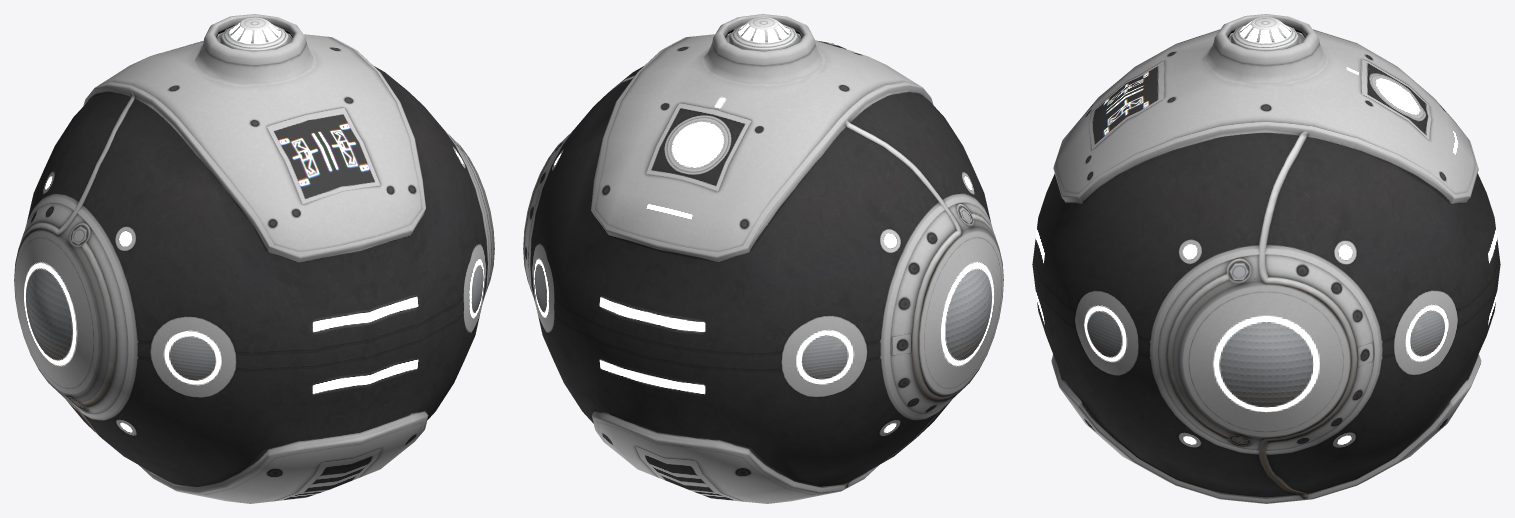
File: SciFiGrenade01_1.FBX
3 renders of one model, left to right at view 1: azimuth 30°, elevation 25°; view 2: azimuth 150°, elevation 25°; view 3: azimuth 270°, elevation 25°, orthographic.
Parts seen in each view (by area): view 1: SciFiGrenade01_1; view 2: SciFiGrenade01_1; view 3: SciFiGrenade01_1.
Boxes of the visible parts, x1,y1,x2,y2 form: SciFiGrenade01_1: (14, 14, 494, 503); SciFiGrenade01_1: (523, 14, 1003, 503); SciFiGrenade01_1: (1032, 14, 1500, 503).
Size of what is drawn, in the model's own units: 0.1584 by 0.1618 by 0.1496.
